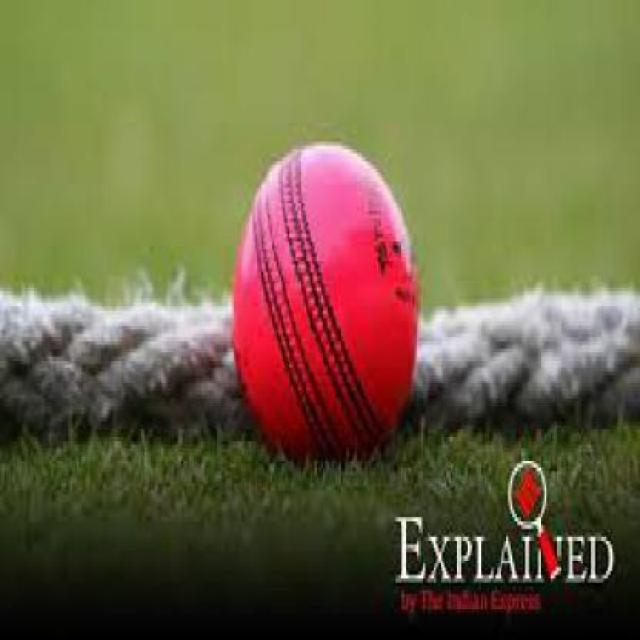ball: (203, 120, 469, 479)
